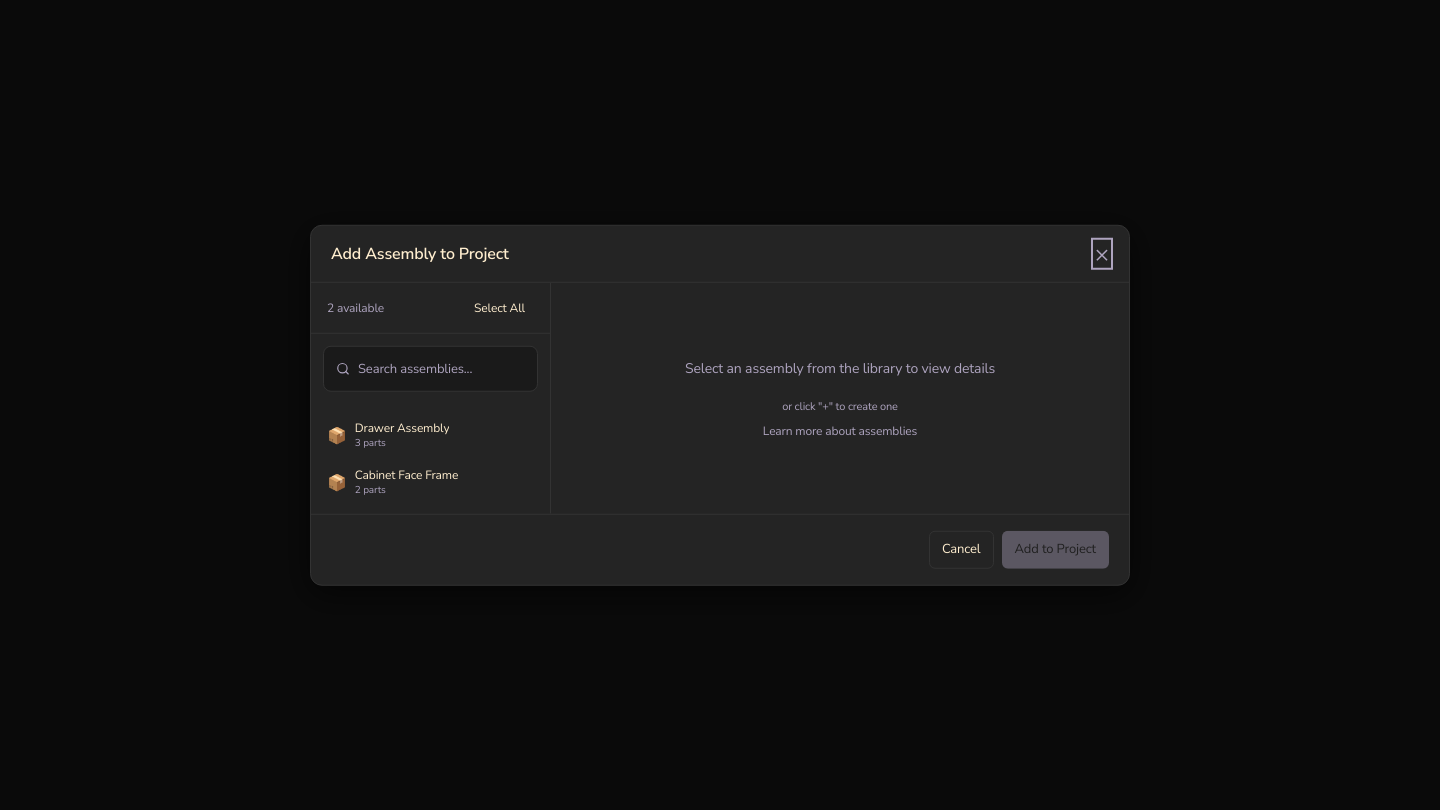
Test: AddAssemblyModal › select all › selects all assemblies when clicked
Click the button "Select All" at (500, 308), box [465,295,534,321]
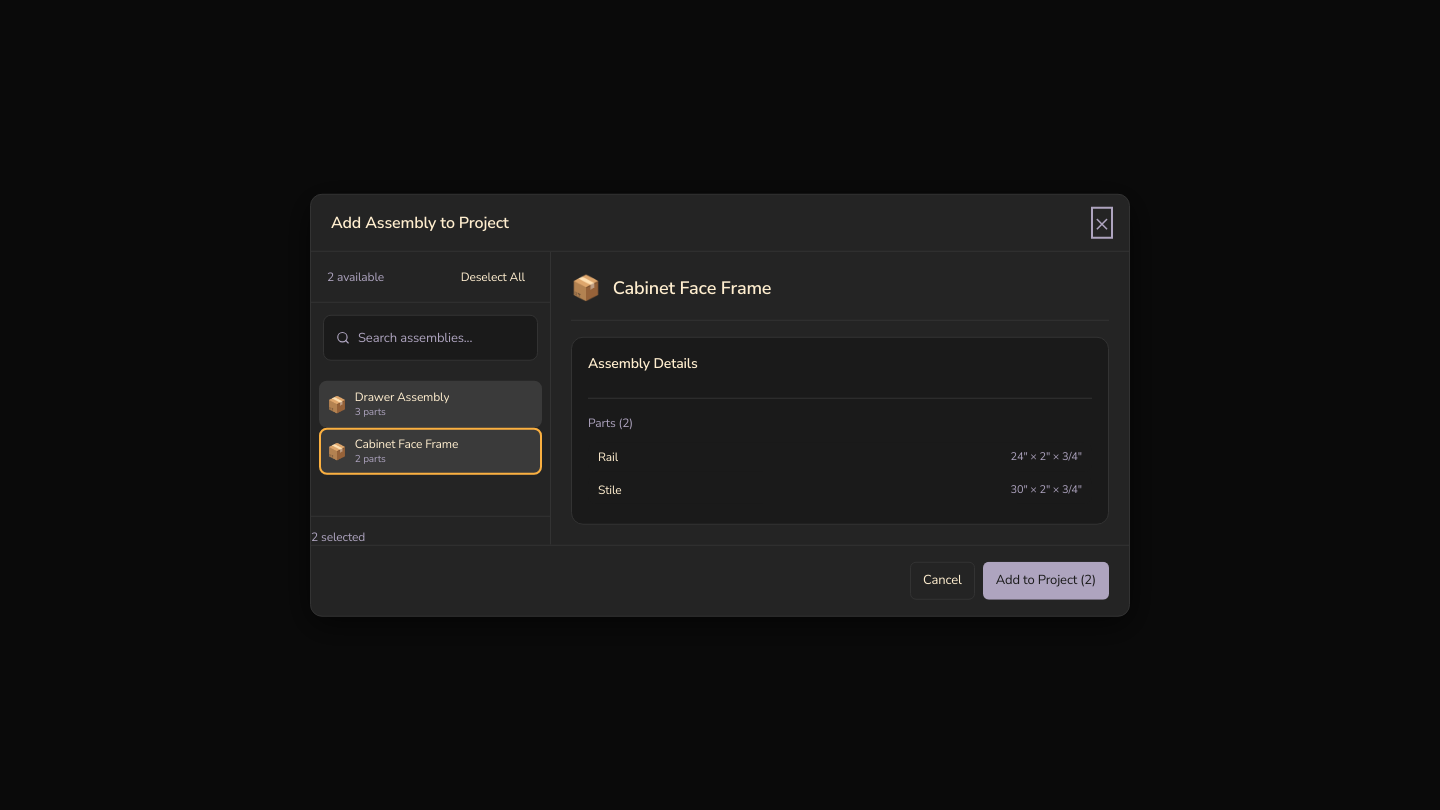
Now the text "2 selected" is shown, box [311,529,365,545]
